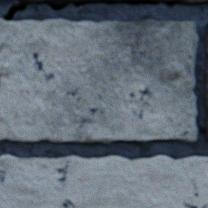brick: (0, 19, 196, 143), (0, 155, 207, 207), (201, 24, 207, 140), (174, 0, 207, 3), (24, 0, 54, 2), (153, 0, 171, 2), (66, 0, 100, 1)
crack: (2, 0, 207, 21)
